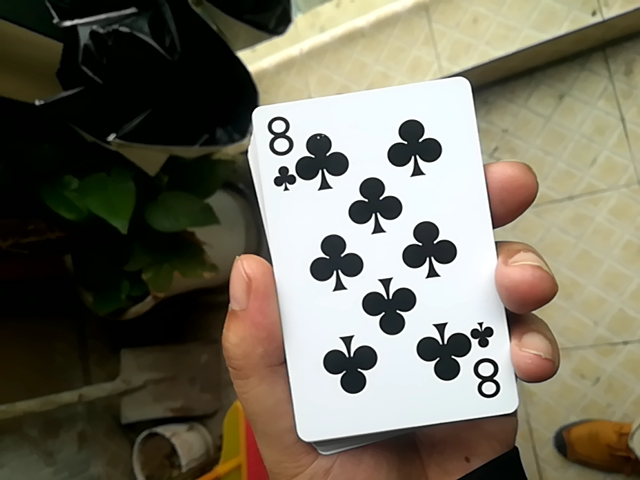mh 8: (240, 81, 511, 443)
